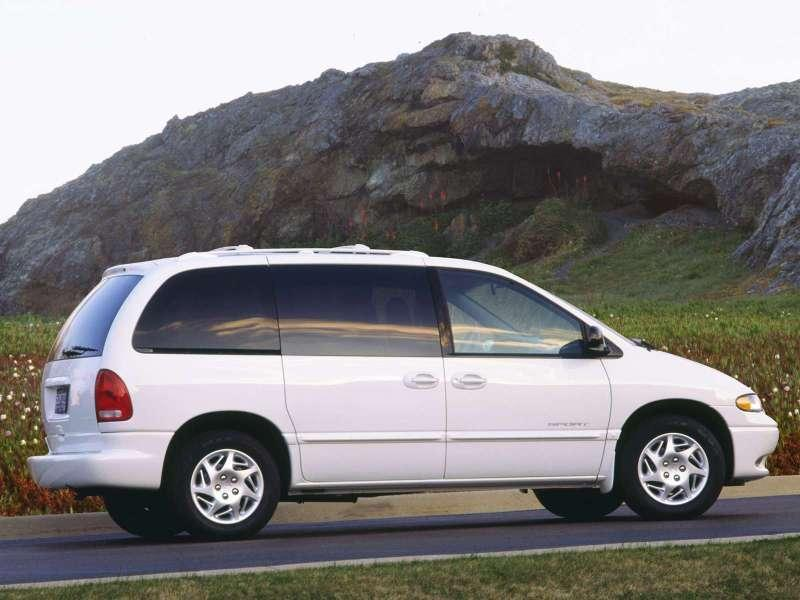car: (15, 206, 791, 594)
